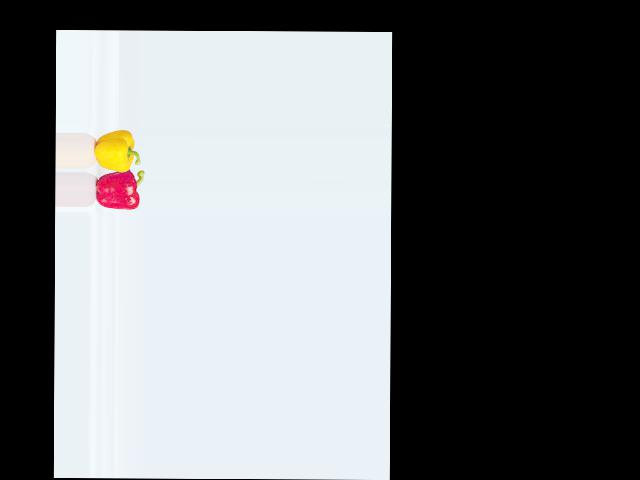bell_pepper: (90, 168, 142, 213)
